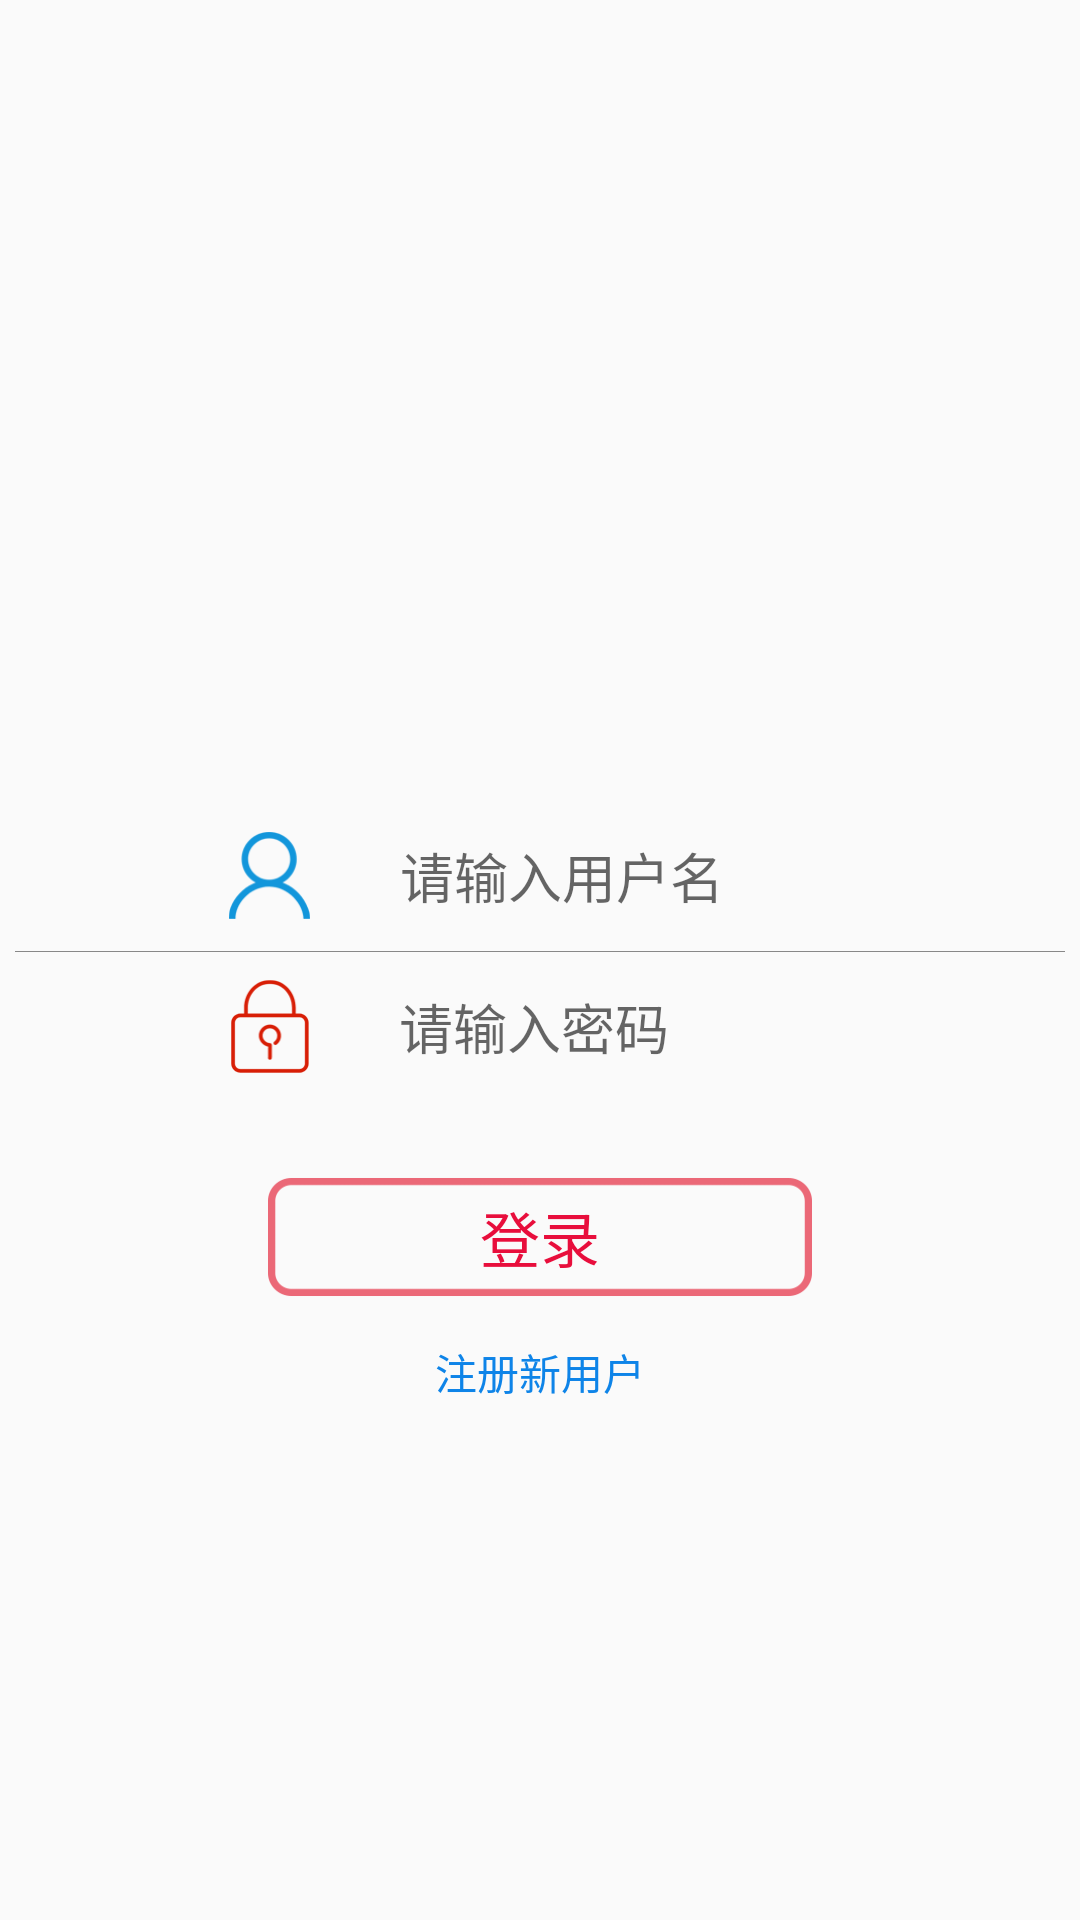

Locate icon controls on the screen. Image size 1080w x 1920h, boxes as (x1, y1, x2, y2).
account: (229, 832, 310, 919)
pass: (231, 980, 309, 1073)
